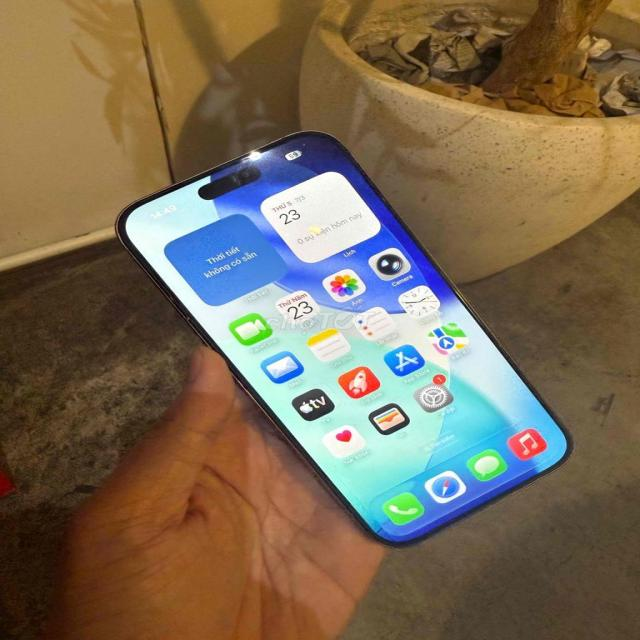gen_16: (118, 131, 568, 546)
